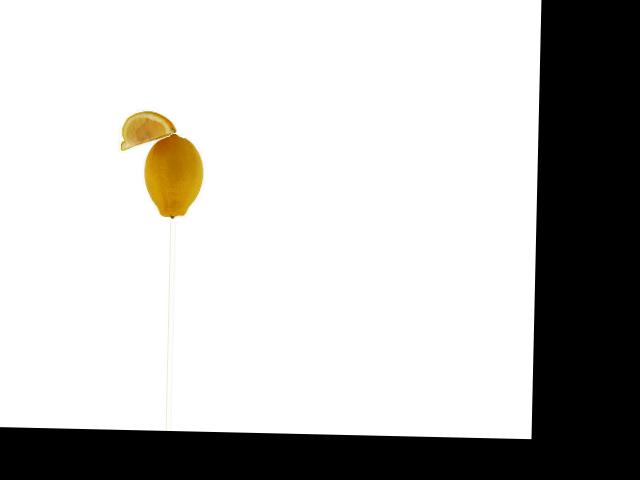lemon: (139, 130, 206, 220)
